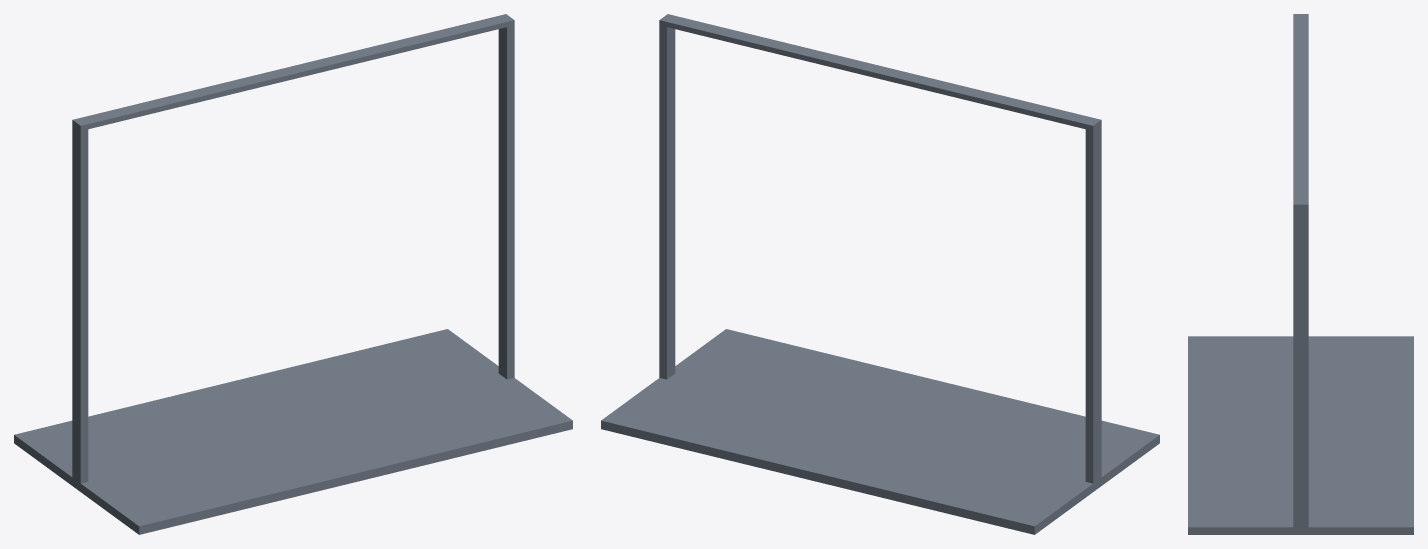
File: StraightRack.fbx
3 renders of one model, left to right at view 1: azimuth 30°, elevation 25°; view 2: azimuth 150°, elevation 25°; view 3: azimuth 270°, elevation 25°, orthographic. The views are drawn at different scales.
Parts seen in each view (by area): view 1: ClothingRack; view 2: ClothingRack; view 3: ClothingRack.
Part boxes in pixels (bbox=[...]): ClothingRack: bbox=[14, 14, 572, 534]; ClothingRack: bbox=[601, 14, 1159, 534]; ClothingRack: bbox=[1188, 14, 1413, 534].
Size of the model in its own units: 480 by 387 by 240.
